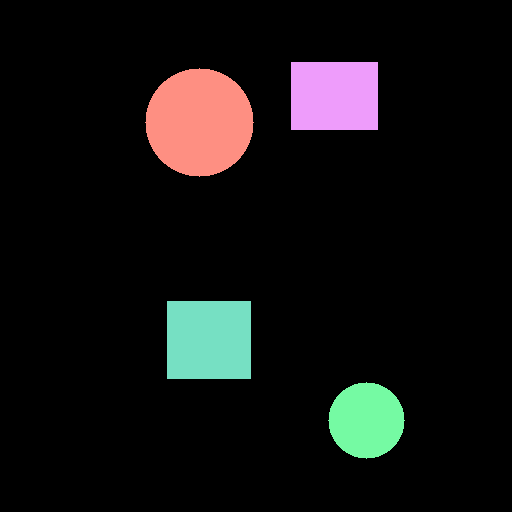circle: (145, 68, 253, 176), (328, 382, 404, 458)
rectangle: (291, 62, 377, 129)
square: (167, 301, 250, 378)
